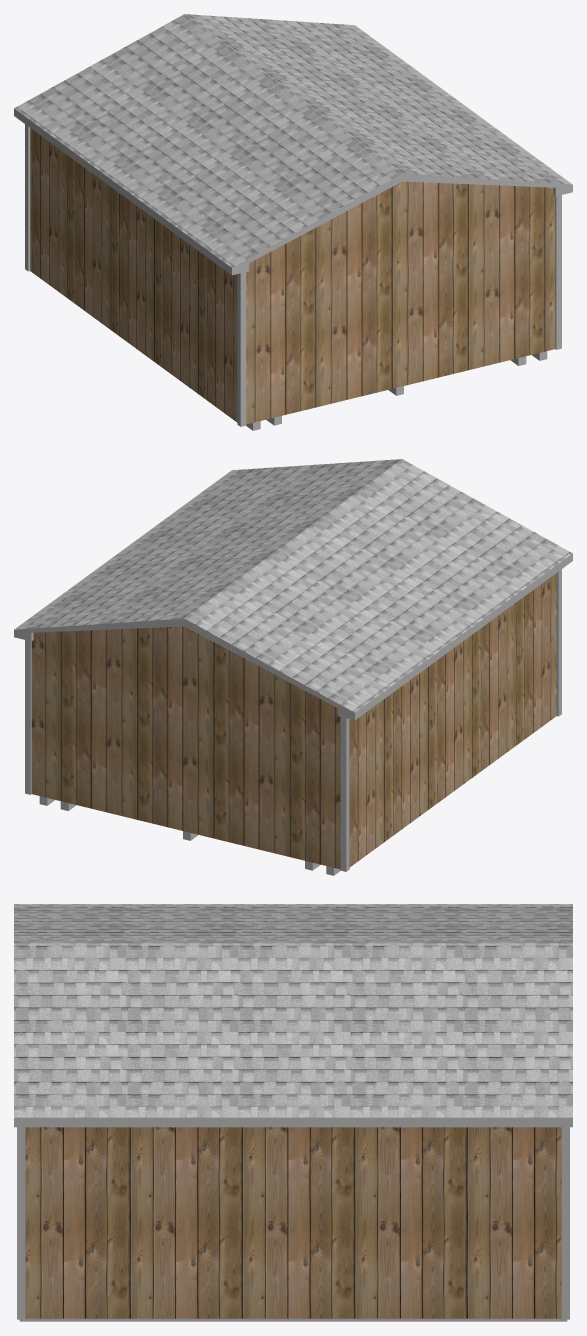
Rendered from A-frame_14x16.obj.
The picture shows the model from 3 angles, top to bottom: view 1: azimuth 30°, elevation 25°; view 2: azimuth 150°, elevation 25°; view 3: azimuth 270°, elevation 25°; orthographic projection. The views are drawn at different scales.
Parts seen in each view (by area): view 1: Shed, Roof, Sides, Trim, Floor; view 2: Shed, Roof, Sides, Trim, Floor; view 3: Roof, Shed, Sides, Trim, Floor.
Part boxes in pixels (x1,y1,x2,y2): Shed: (30,128,555,424); Roof: (14,14,572,267); Sides: (14,108,572,275); Trim: (25,124,561,426); Floor: (246,351,547,430); Shed: (31,573,556,869); Roof: (14,459,572,712); Sides: (14,553,572,720); Trim: (25,569,561,871); Floor: (39,796,340,875); Roof: (14,904,572,1117); Shed: (25,1127,561,1318); Sides: (14,1117,572,1127); Trim: (17,1127,569,1319); Floor: (19,1318,567,1321).
Bounding box in the file's own units: 4.5 × 2.81 × 4.98.
